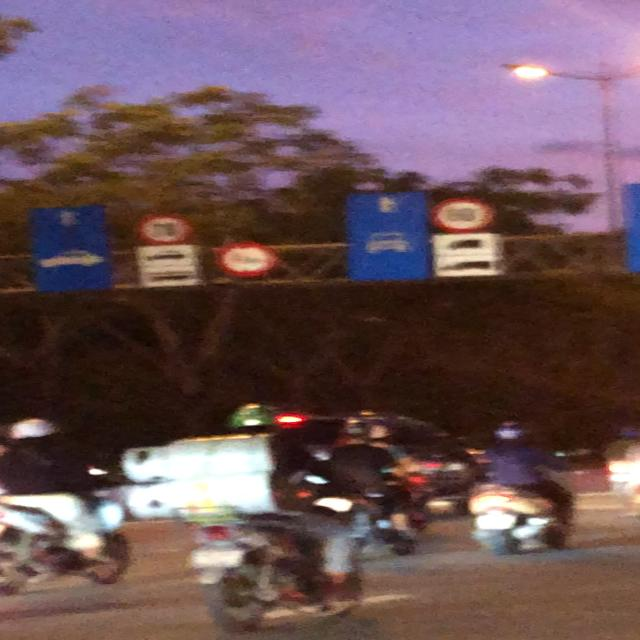Bien bao toc do toi da cho phep: (430, 195, 498, 235), (130, 210, 192, 245)
